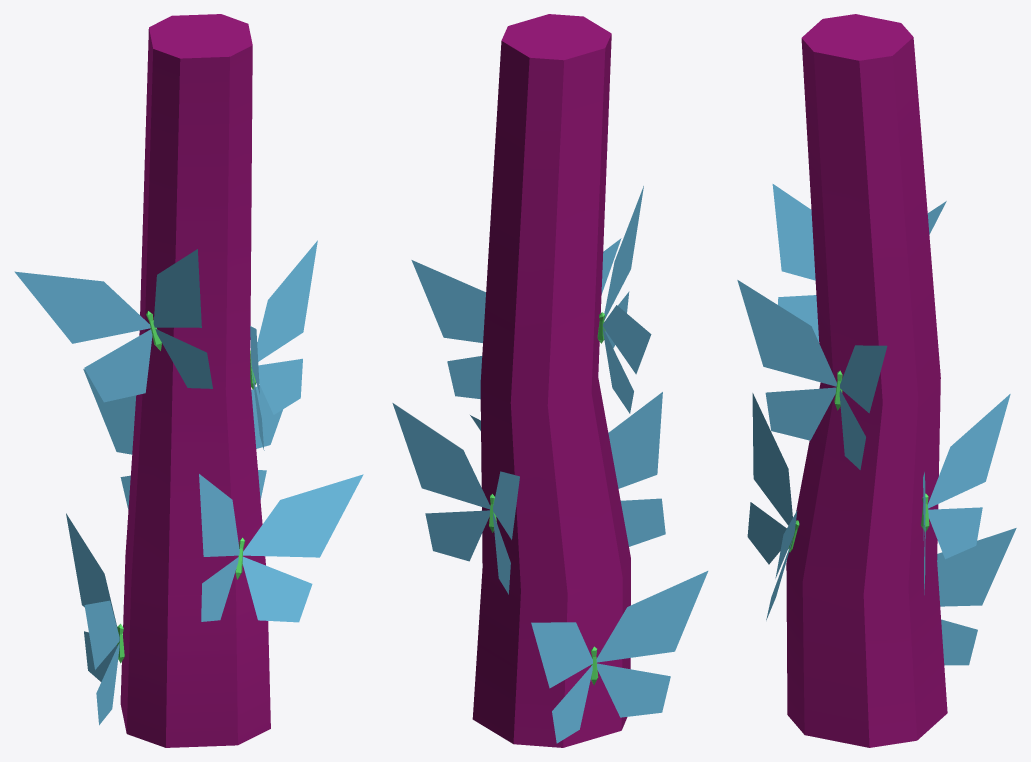
The model's file is 019_Butterfly.fbx.
3 views of the same model, side by side, from view 1: azimuth 30°, elevation 25°; view 2: azimuth 150°, elevation 25°; view 3: azimuth 270°, elevation 25° (orthographic).
Parts seen in each view (by area): view 1: butterfly2; view 2: butterfly2; view 3: butterfly2.
Boxes of the visible parts, x1=… form: butterfly2: x1=14, y1=14, x2=363, y2=747; butterfly2: x1=392, y1=14, x2=708, y2=747; butterfly2: x1=737, y1=14, x2=1016, y2=747.
Size of the model in its own units: 54.82 by 130 by 48.77.
